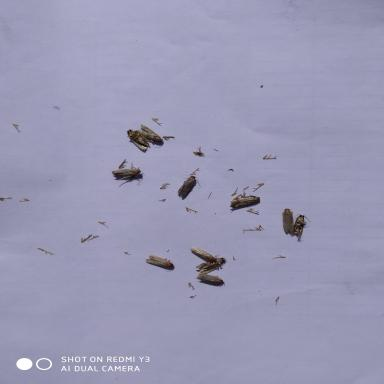pbw: (177, 173, 202, 199), (195, 256, 227, 274), (126, 128, 150, 151), (292, 213, 311, 242), (140, 124, 163, 147), (111, 162, 140, 180), (144, 254, 174, 269), (230, 194, 260, 209), (190, 247, 219, 262), (195, 273, 225, 287), (280, 208, 292, 234)
